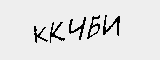Б: (87, 15, 103, 40)
И: (100, 13, 120, 36)
К: (47, 20, 68, 46), (32, 22, 50, 46)
Ч: (67, 15, 90, 41)
